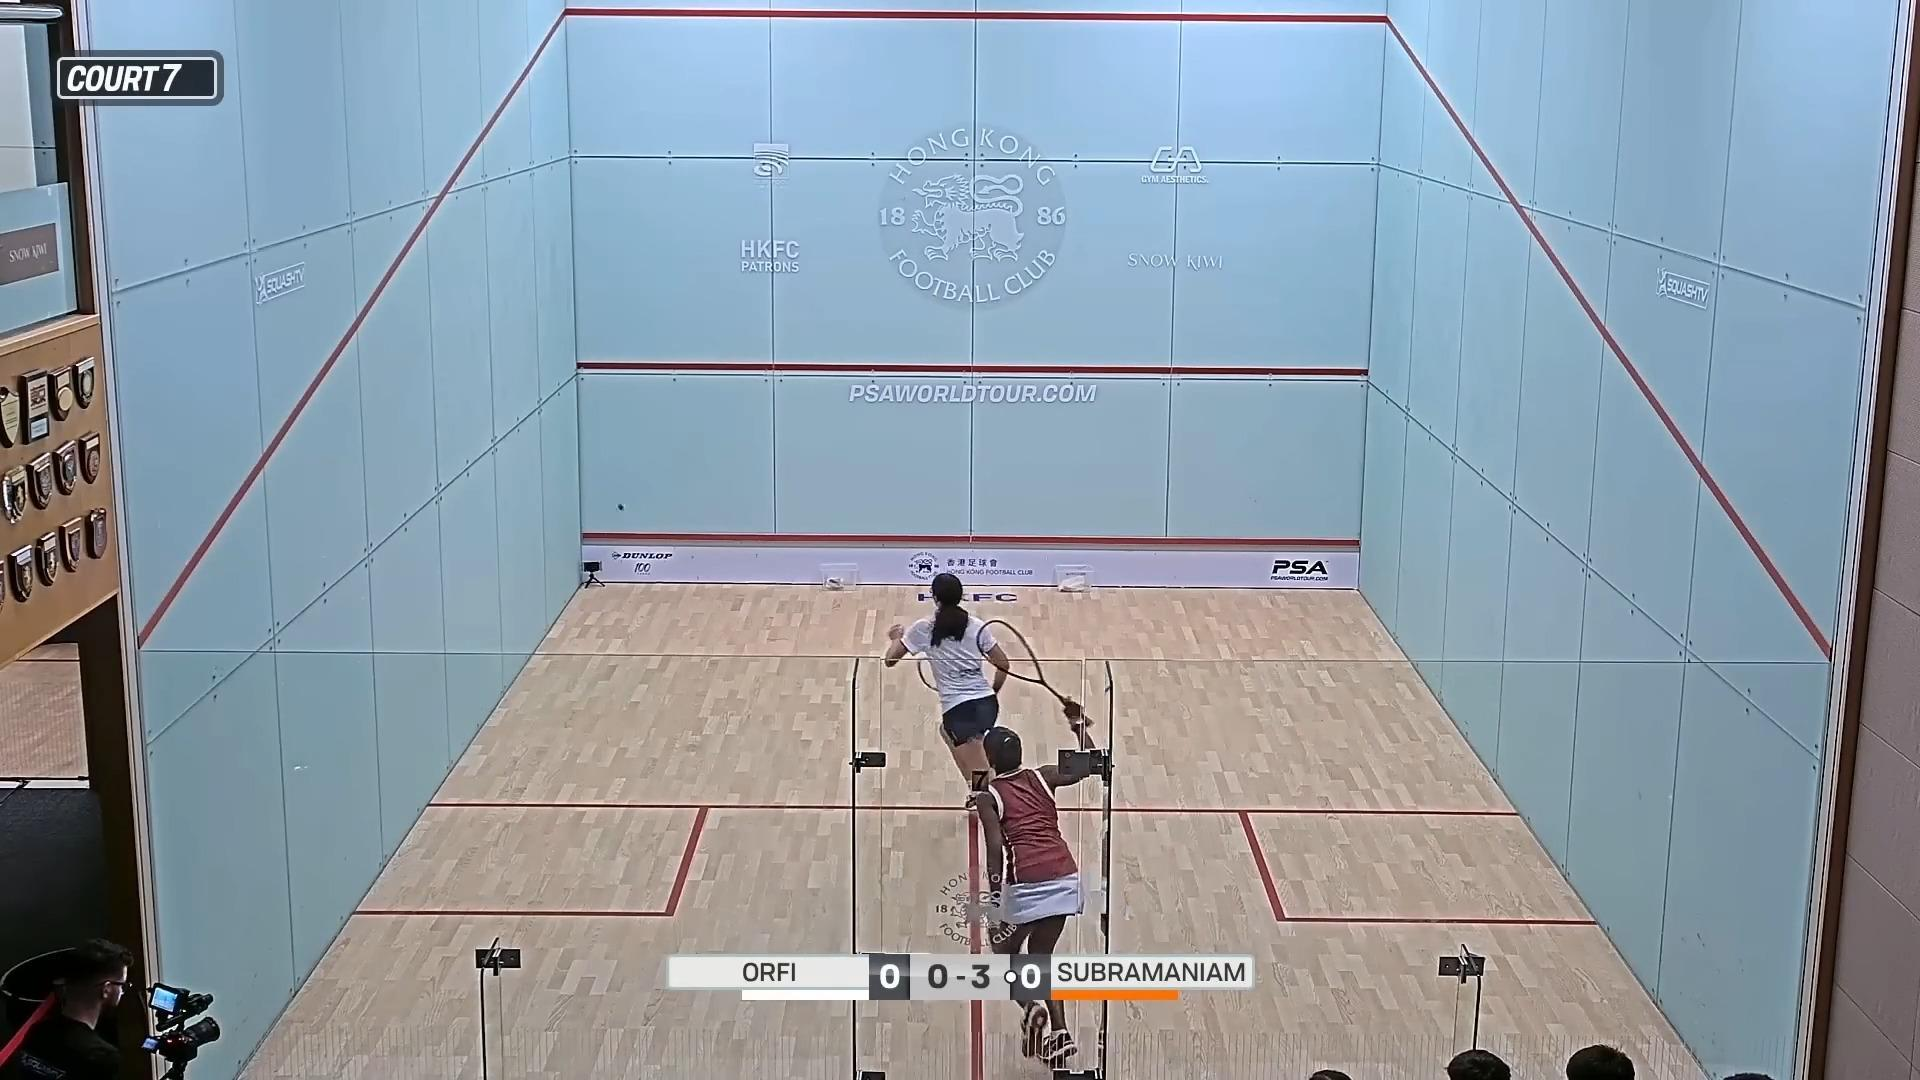Squash-Ball: (611, 498, 632, 520)
